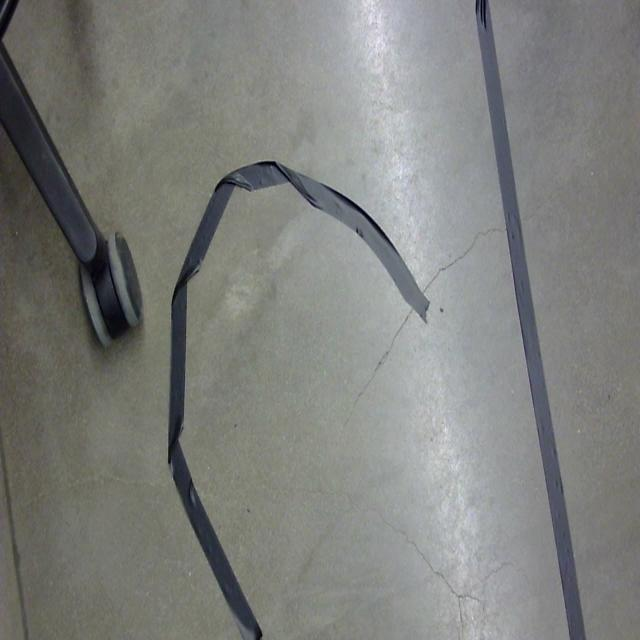tape: (166, 152, 430, 640), (474, 2, 586, 638)
